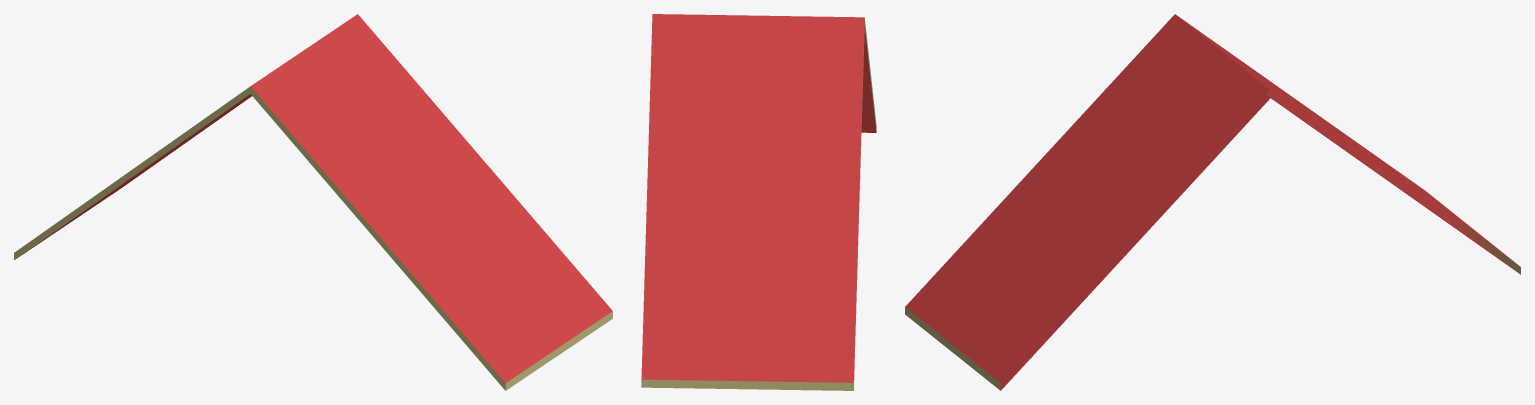
3 views of the same model, side by side, from view 1: azimuth 30°, elevation 25°; view 2: azimuth 150°, elevation 25°; view 3: azimuth 270°, elevation 25° (orthographic). The views are drawn at different scales.
Bounding box in the file's own units: 5.31 × 7.17 × 3.09.
